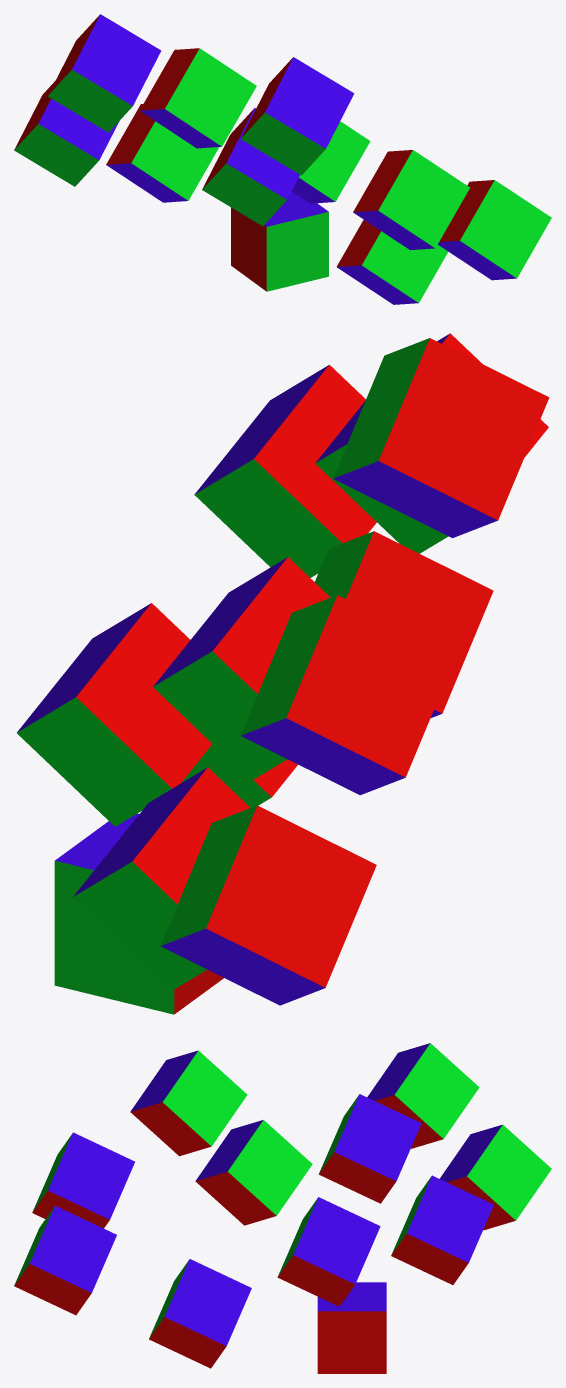
3 views of the same model, one above another, from view 1: azimuth 30°, elevation 25°; view 2: azimuth 150°, elevation 25°; view 3: azimuth 270°, elevation 25° (orthographic). The views are drawn at different scales.
Parts seen in each view (by area): view 1: Cube.006, Cube.005, Cube.004, Cube.007, Cube, Cube.010, Cube.003, Cube.009, Cube.008, Cube.002, Cube.001; view 2: Cube.006, Cube.002, Cube.005, Cube.001, Cube.010, Cube.004, Cube.003, Cube.009, Cube, Cube.007, Cube.008; view 3: Cube.006, Cube.009, Cube.010, Cube.004, Cube.001, Cube.003, Cube.008, Cube.005, Cube.002, Cube, Cube.007.
Boxes of the visible parts, box(x1,y1,x2,y2) form: Cube.006: box(241, 57, 354, 175); Cube.005: box(48, 14, 161, 132); Cube.004: box(139, 48, 256, 148); Cube.007: box(353, 150, 469, 250); Cube: box(231, 191, 328, 291); Cube.010: box(438, 180, 551, 280); Cube.003: box(106, 104, 219, 202); Cube.009: box(202, 108, 299, 226); Cube.008: box(336, 220, 448, 304); Cube.002: box(14, 81, 119, 186); Cube.001: box(292, 121, 370, 203); Cube.006: box(333, 338, 549, 538); Cube.002: box(160, 805, 376, 1005); Cube.005: box(240, 595, 456, 795); Cube.001: box(17, 603, 212, 826); Cube.010: box(194, 365, 376, 577); Cube.004: box(153, 557, 330, 780); Cube.003: box(73, 767, 250, 990); Cube.009: box(315, 531, 493, 717); Cube: box(54, 813, 223, 1014); Cube.007: box(315, 333, 548, 553); Cube.008: box(181, 744, 297, 807); Cube.006: box(130, 1050, 247, 1156); Cube.009: box(195, 1120, 312, 1225); Cube.010: box(14, 1205, 116, 1315); Cube.004: box(318, 1094, 421, 1203); Cube.001: box(277, 1197, 380, 1306); Cube.003: box(391, 1175, 493, 1284); Cube.008: box(149, 1259, 251, 1368); Cube.005: box(367, 1043, 479, 1148); Cube.002: box(440, 1124, 551, 1230); Cube: box(317, 1282, 386, 1373); Cube.007: box(32, 1132, 134, 1228).
Bounding box in the file's own units: 9.53 × 8.9 × 15.61.
